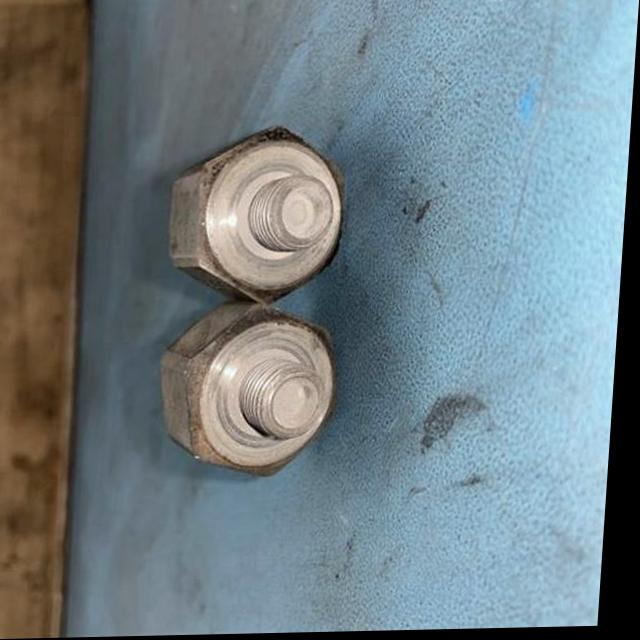Regular bolt: (166, 126, 365, 305), (156, 303, 353, 482)
